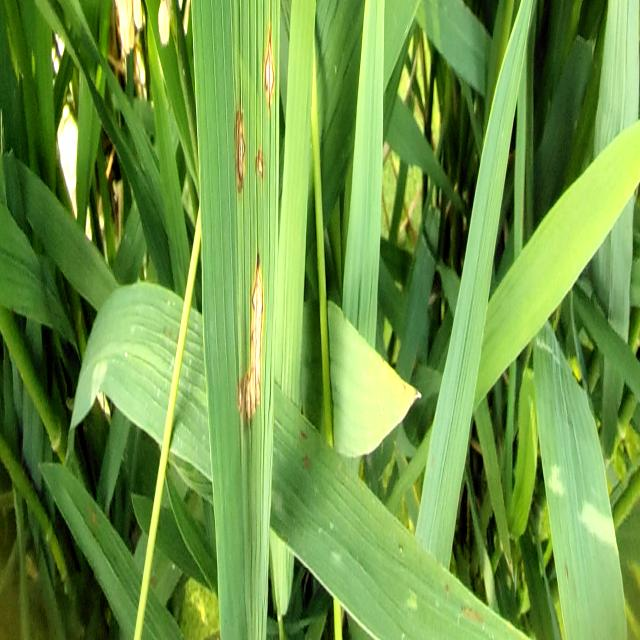LEAF BLAST: (237, 255, 264, 424), (264, 21, 275, 111), (235, 107, 245, 192), (256, 147, 263, 178)
